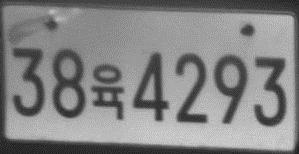2: (175, 52, 207, 124)
3: (252, 55, 287, 126), (11, 45, 45, 117)
4: (132, 50, 170, 122)
8: (51, 48, 86, 118)
9: (213, 54, 247, 125)
육: (90, 63, 125, 121)
